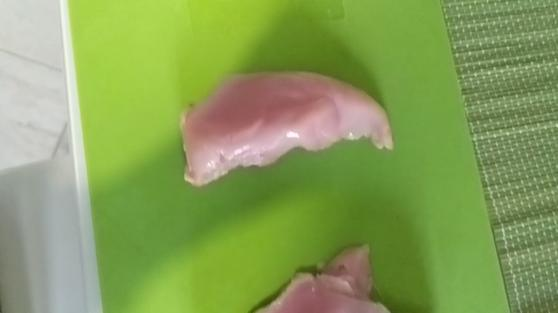chicken_fillet: (180, 71, 396, 185), (243, 245, 392, 313)
